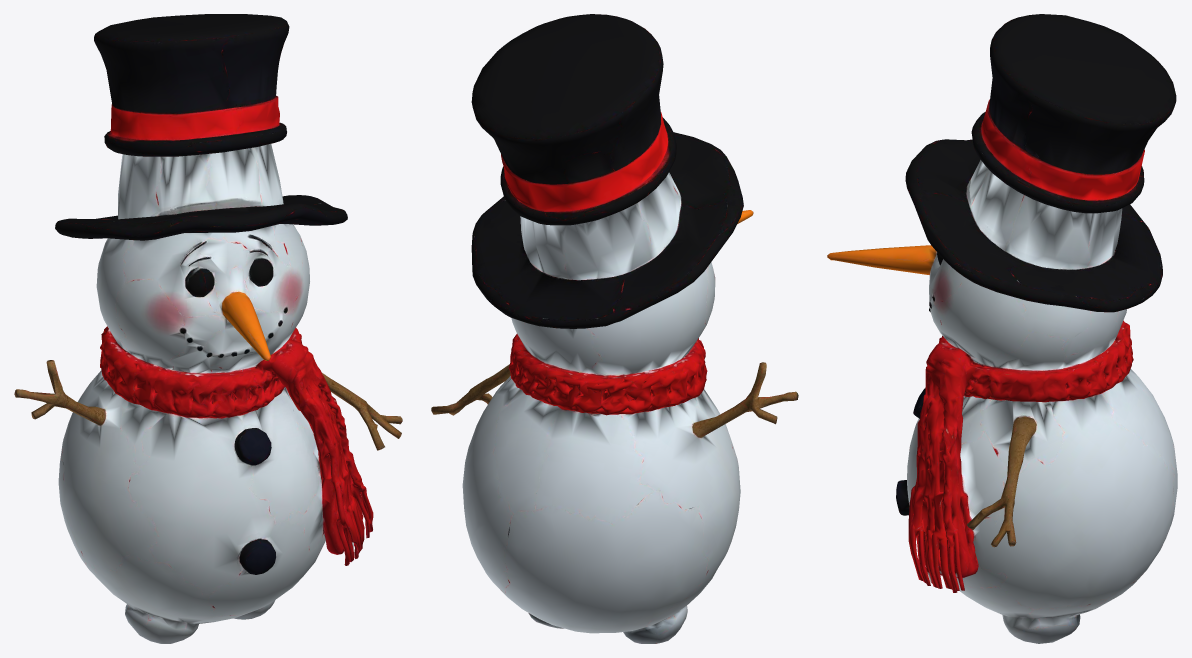
Rendered from toit-bonhomme.glb.
The picture shows the model from 3 angles, left to right: view 1: azimuth 30°, elevation 25°; view 2: azimuth 150°, elevation 25°; view 3: azimuth 270°, elevation 25°; orthographic projection. The views are drawn at different scales.
Size of the model in its own units: 1.25 by 1.9 by 1.03.
1 material, 1 textured.
